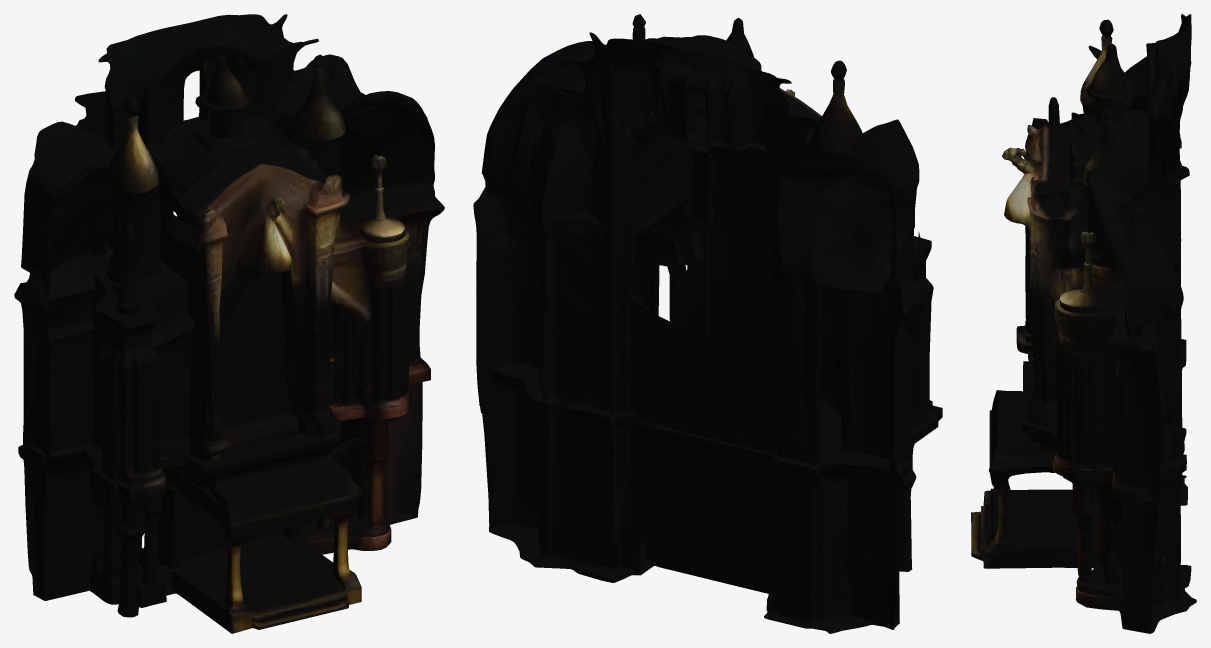
File: prop_cathedral_organ.glb
3 views of the same model, side by side, from view 1: azimuth 30°, elevation 25°; view 2: azimuth 150°, elevation 25°; view 3: azimuth 270°, elevation 25° (orthographic). The views are drawn at different scales.
Visible parts, largest first — view 1: geometry_0; view 2: geometry_0; view 3: geometry_0.
Part boxes in pixels (bbox=[...]): geometry_0: bbox=[14, 14, 444, 633]; geometry_0: bbox=[473, 14, 942, 633]; geometry_0: bbox=[971, 14, 1196, 633].
Bounding box in the file's own units: 0.8273 × 1 × 0.416.
Materials: 1 (1 with a texture image).
